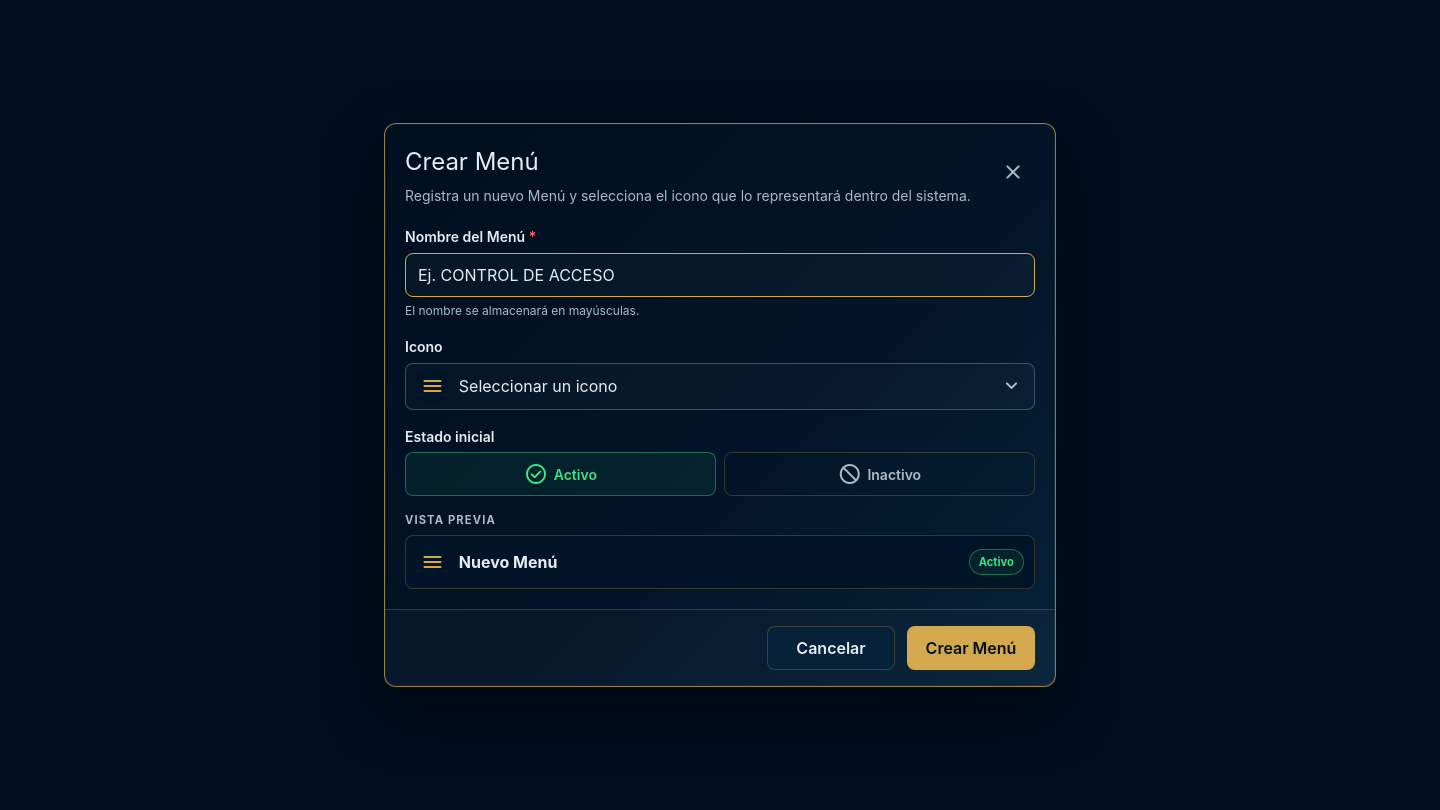
Test: MenuFormModalComponent › searches by technical name and displays its Spanish label
This screenshot has width=1440, height=810.
Click the button with id "menu-icon-trigger".
click(432, 386)  # box x1=405 y1=363 x2=1035 y2=410
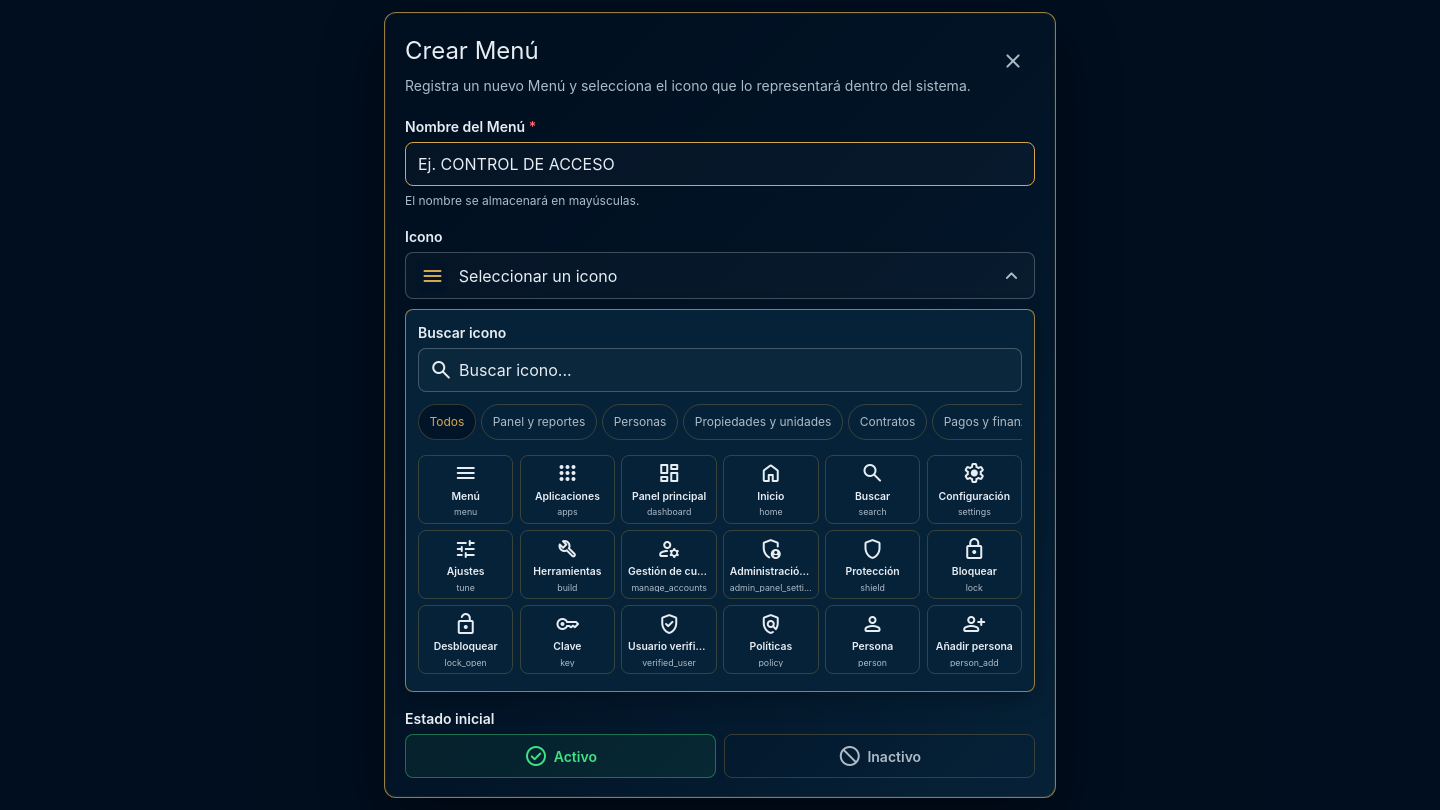
Type "setting" into the search field with id "menu-icon-search".
click(720, 370); type("setting")  # box x1=418 y1=348 x2=1022 y2=392
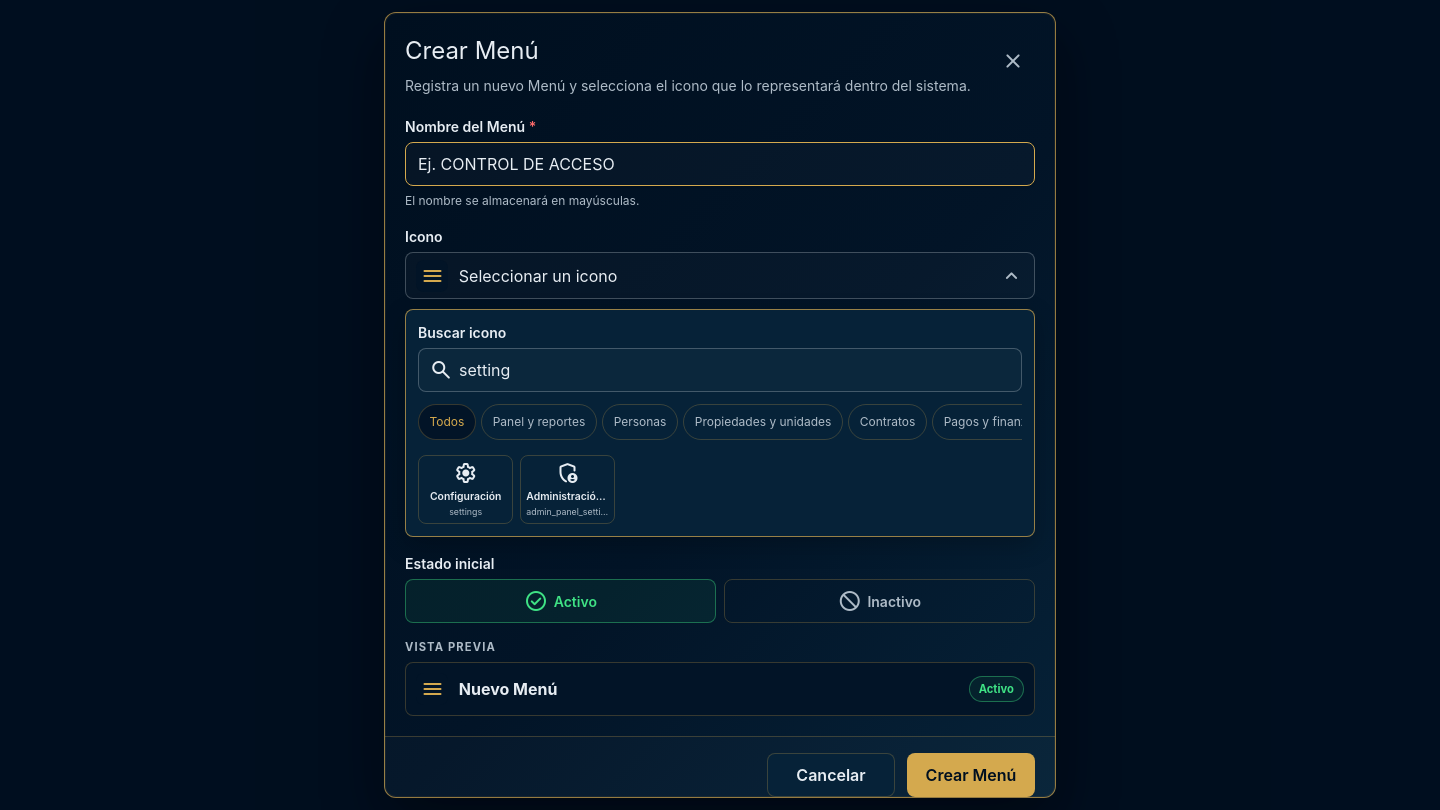
Now the option "Configuración settings" is shown
Click the option "Configuración settings".
click(466, 489)  # box x1=418 y1=455 x2=513 y2=524
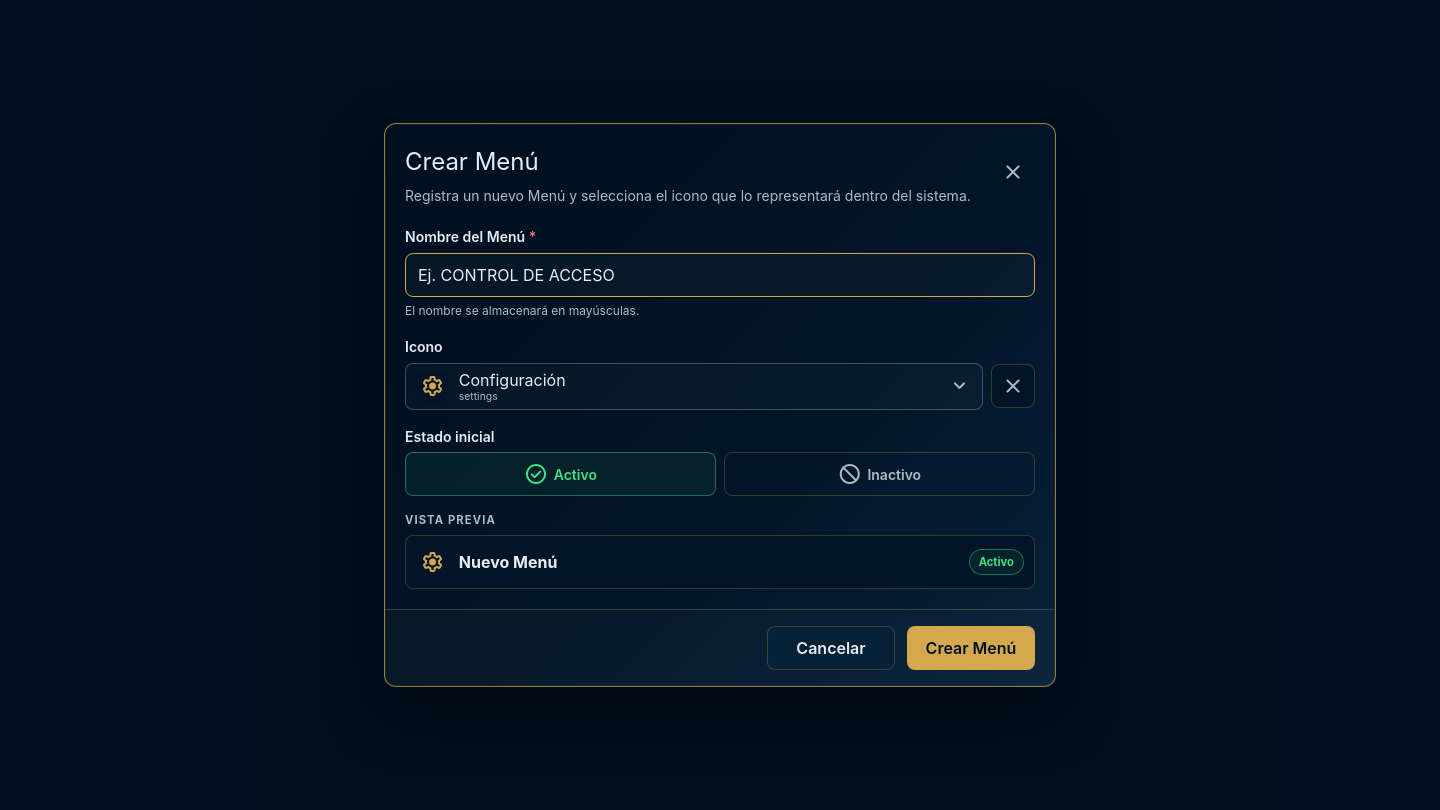
Now the dialog with id "menu-icon-picker" is gone
Now the text with class "selected-icon-label" reads "Configuración", box x1=459 y1=370 x2=566 y2=390
